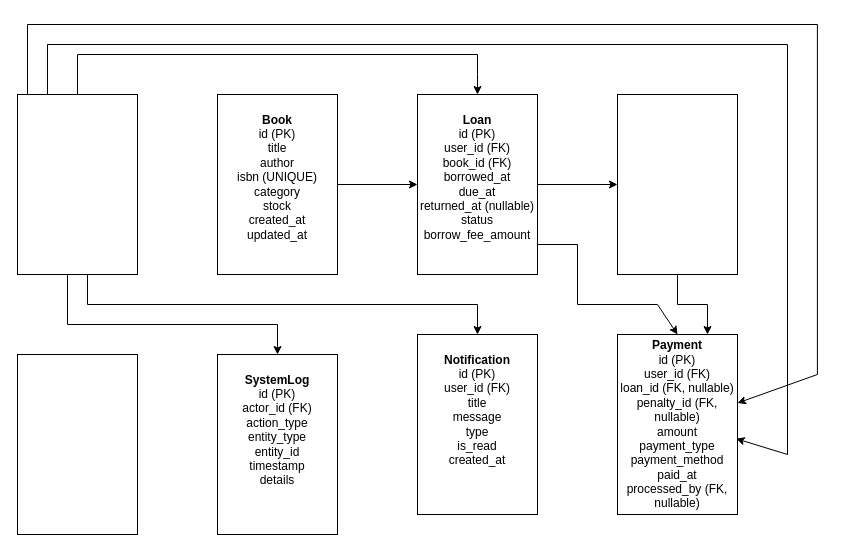
Image size: 843x552. Some labels were removed from this diagram. Here are the shapes that lost their labels. From the top down, the box of each, then its label:
(16, 94, 138, 274): User id (PK) name email (UNIQUE) password_hash role created_at updated_at
(616, 94, 738, 274): Penalty id (PK) loan_id (FK, UNIQUE) amount days_late paid paid_at (nullable)
(16, 354, 138, 534): SystemSetting id (PK) setting_key (UNIQUE) setting_value
